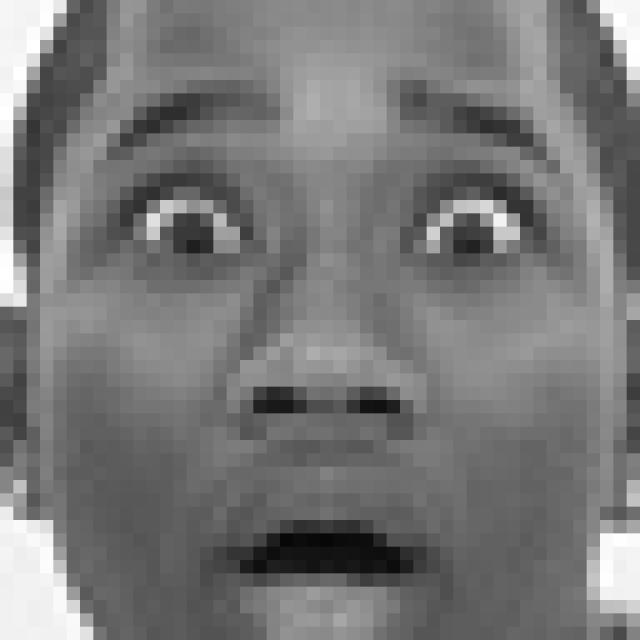surprise: (93, 76, 572, 640)
